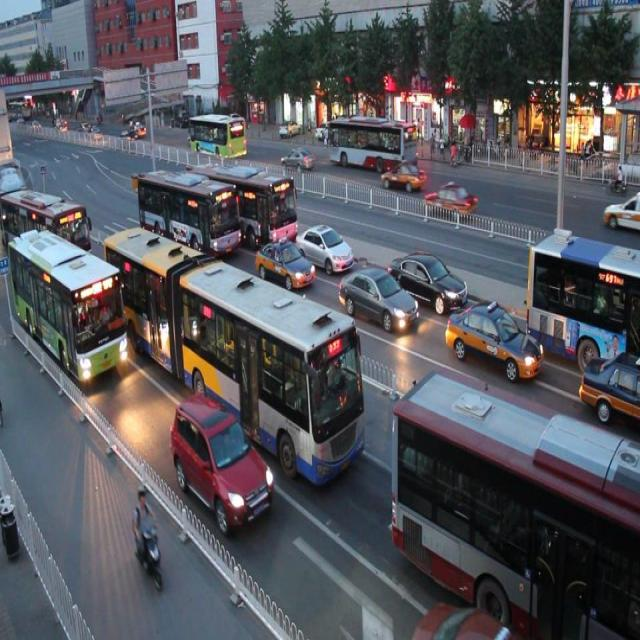car: (170, 394, 271, 535), (446, 294, 544, 382), (337, 258, 416, 331), (411, 589, 515, 640), (390, 243, 468, 309), (576, 347, 640, 422), (253, 230, 314, 289), (294, 214, 352, 273), (67, 255, 114, 309), (208, 164, 238, 195)
van: (102, 218, 366, 482), (392, 368, 640, 640), (1, 229, 129, 385), (526, 228, 640, 365), (136, 160, 240, 262), (191, 153, 298, 248), (1, 182, 90, 272)
